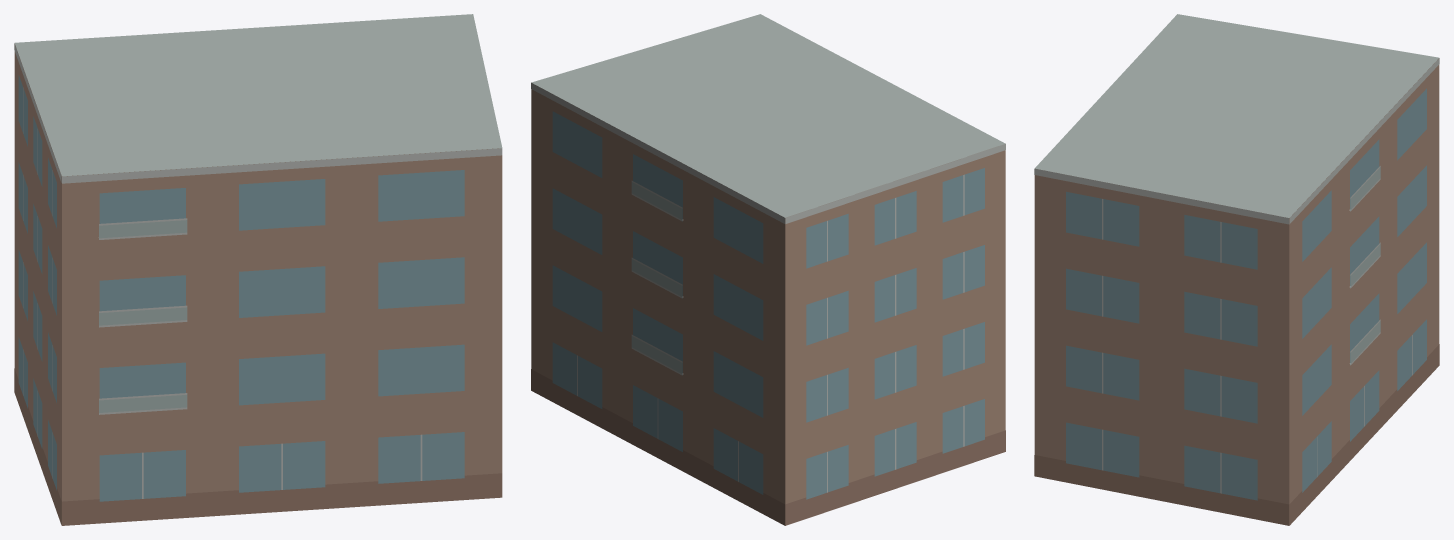
Rendered from survey-upis-32877997.glb.
3 views of the same model, side by side, from view 1: azimuth 30°, elevation 25°; view 2: azimuth 150°, elevation 25°; view 3: azimuth 270°, elevation 25° (orthographic). The views are drawn at different scales.
Visible parts, largest first — view 1: survey-upis-32877997.tmp; view 2: survey-upis-32877997.tmp; view 3: survey-upis-32877997.tmp.
Part boxes in pixels (left/top/right/bottom): survey-upis-32877997.tmp: left=14, top=14, right=502, bottom=525; survey-upis-32877997.tmp: left=531, top=14, right=1005, bottom=525; survey-upis-32877997.tmp: left=1034, top=14, right=1439, bottom=525.
Size of the model in its own units: 16.65 by 11.7 by 13.97.
